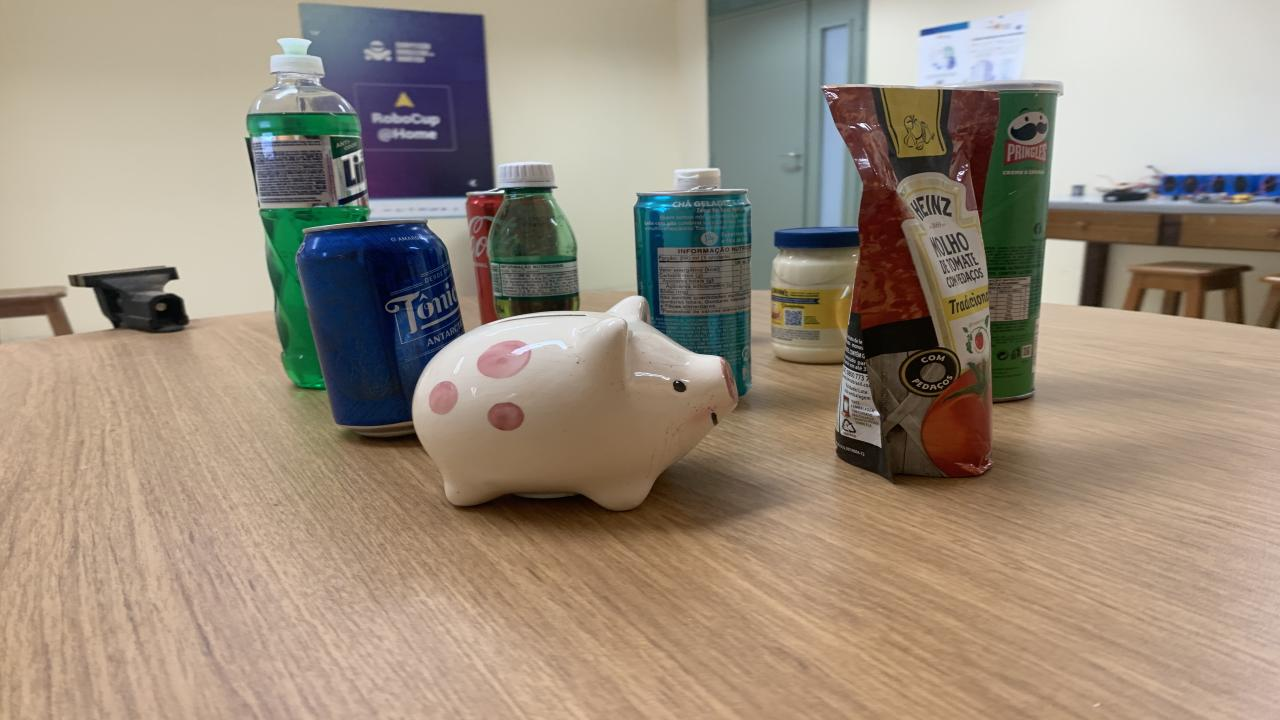Coke-Drinks: (465, 189, 505, 324)
Detergent-Cleanup_Items: (248, 38, 370, 388)
Guarana-Drinks: (488, 161, 580, 317)
Mayonnaise-Pantry_Items: (770, 227, 860, 364)
Mustard-Pantry_Items: (675, 169, 720, 191)
Pig_Safe-Miscellaneous: (412, 296, 738, 510)
Pringles-Snacks: (962, 81, 1062, 401)
Tea-Drinks: (635, 189, 750, 392)
Tomato_Sauce-Pantry_Items: (822, 84, 1000, 478)
Tonic-Drinks: (298, 219, 465, 435)
